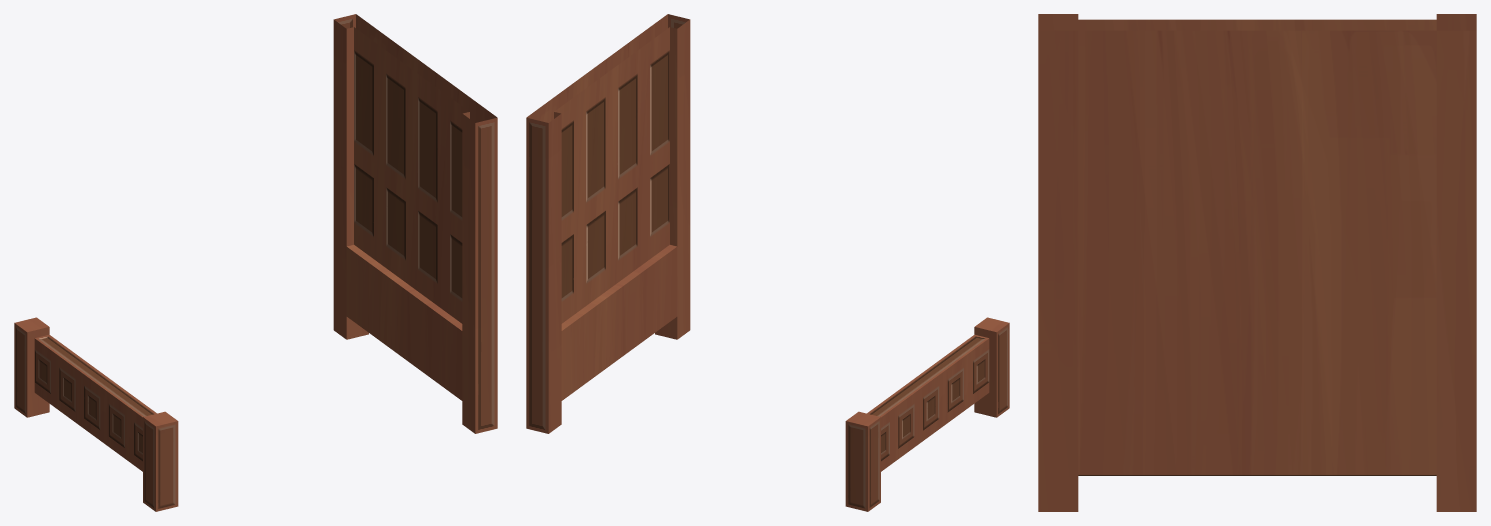
Rendered from Bed_Mod.FBX.
3 renders of one model, left to right at view 1: azimuth 30°, elevation 25°; view 2: azimuth 150°, elevation 25°; view 3: azimuth 270°, elevation 25°, orthographic. The views are drawn at different scales.
Parts seen in each view (by area): view 1: Bed; view 2: Bed; view 3: Bed.
Part boxes in pixels (x1,y1,x2,y2): Bed: (14, 14, 497, 511); Bed: (526, 14, 1009, 511); Bed: (1038, 14, 1476, 511).
Size of the model in its own units: 2.3 by 2 by 1.65.
Materials: 1 (1 with a texture image).
